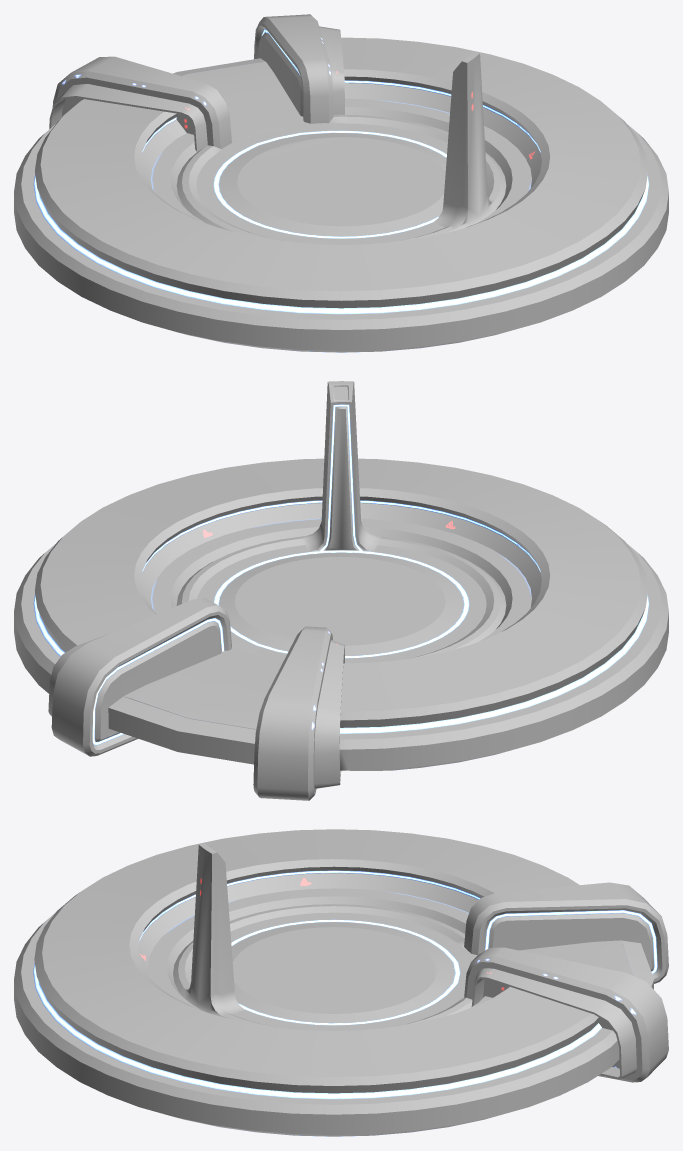
The model's file is MovingPlatform.fbx.
The picture shows the model from 3 angles, top to bottom: view 1: azimuth 30°, elevation 25°; view 2: azimuth 150°, elevation 25°; view 3: azimuth 270°, elevation 25°; orthographic projection. The views are drawn at different scales.
Parts seen in each view (by area): view 1: MovingPlatform; view 2: MovingPlatform; view 3: MovingPlatform.
Part boxes in pixels (x1,y1,x2,y2): MovingPlatform: (14, 14, 668, 352); MovingPlatform: (14, 381, 668, 800); MovingPlatform: (14, 829, 668, 1136).
Size of the model in its own units: 4.63 by 1.89 by 4.74.
